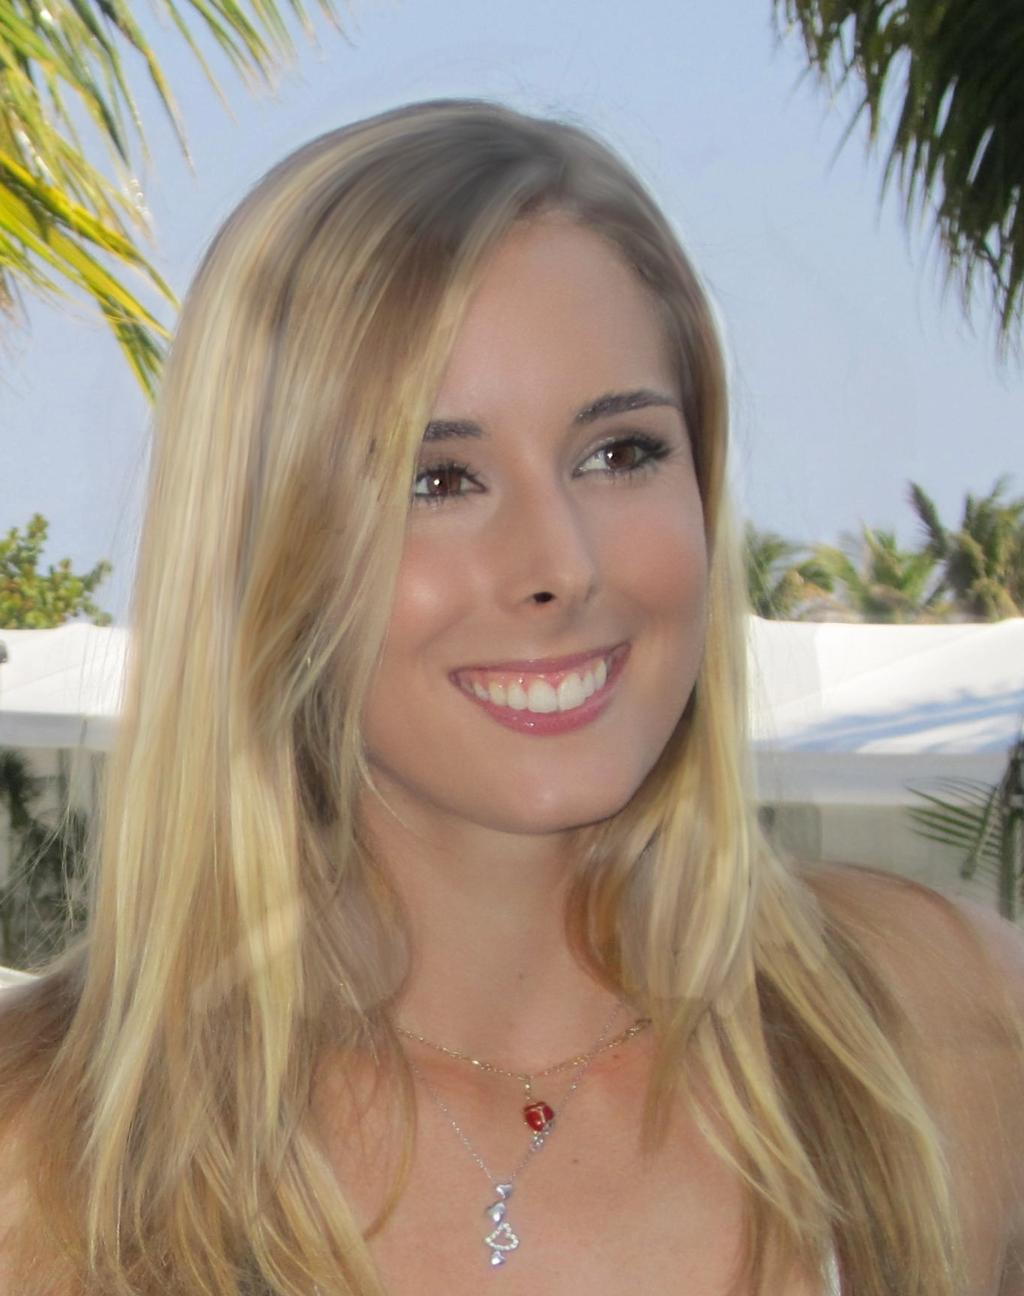face: (314, 230, 703, 827)
